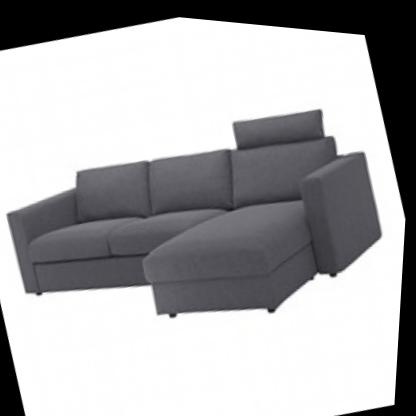Sofa: (0, 60, 413, 390)
